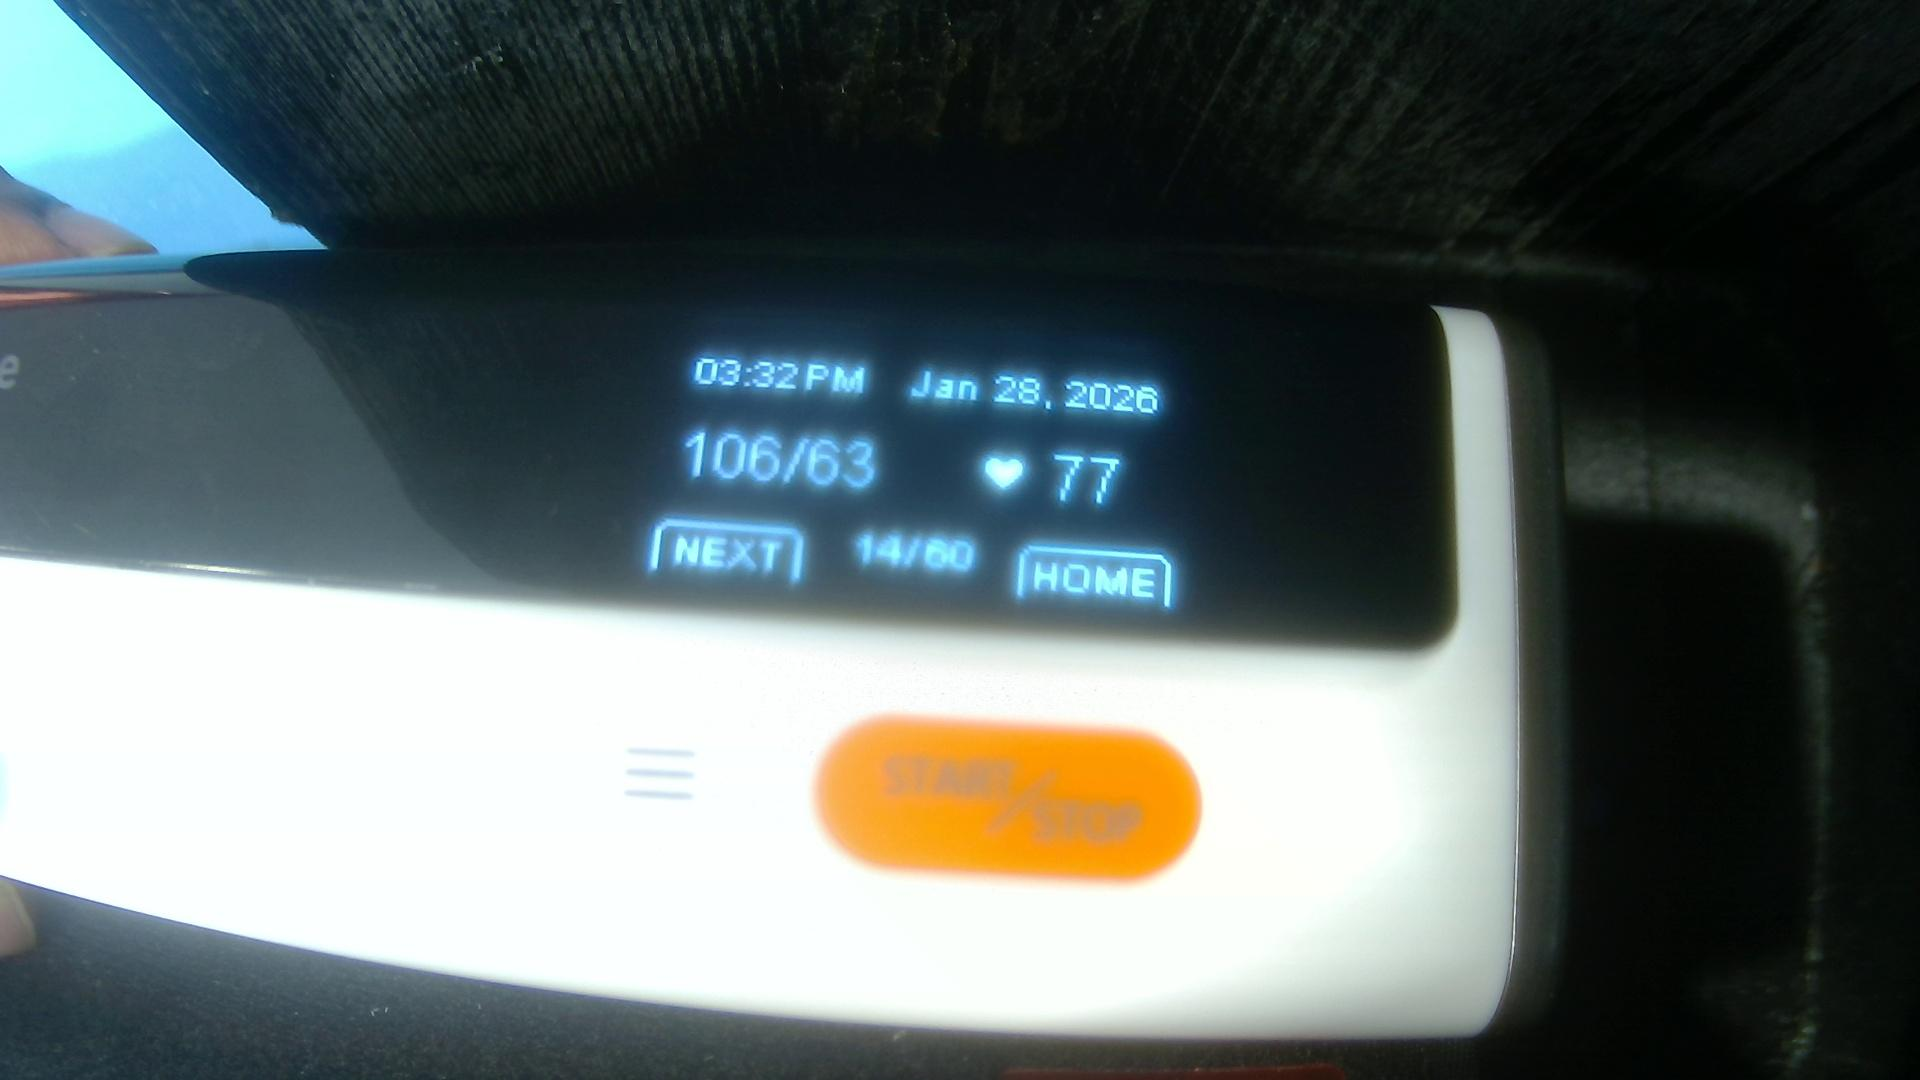DISPLAY: (4, 273, 1440, 654)
